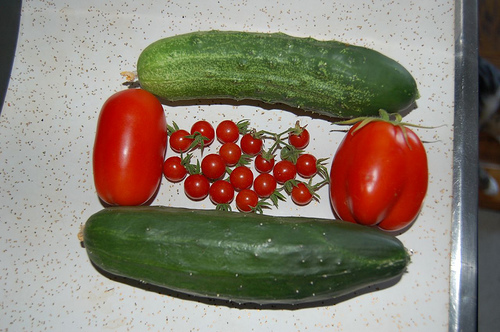cucumber: (79, 205, 411, 305), (120, 30, 419, 123)
